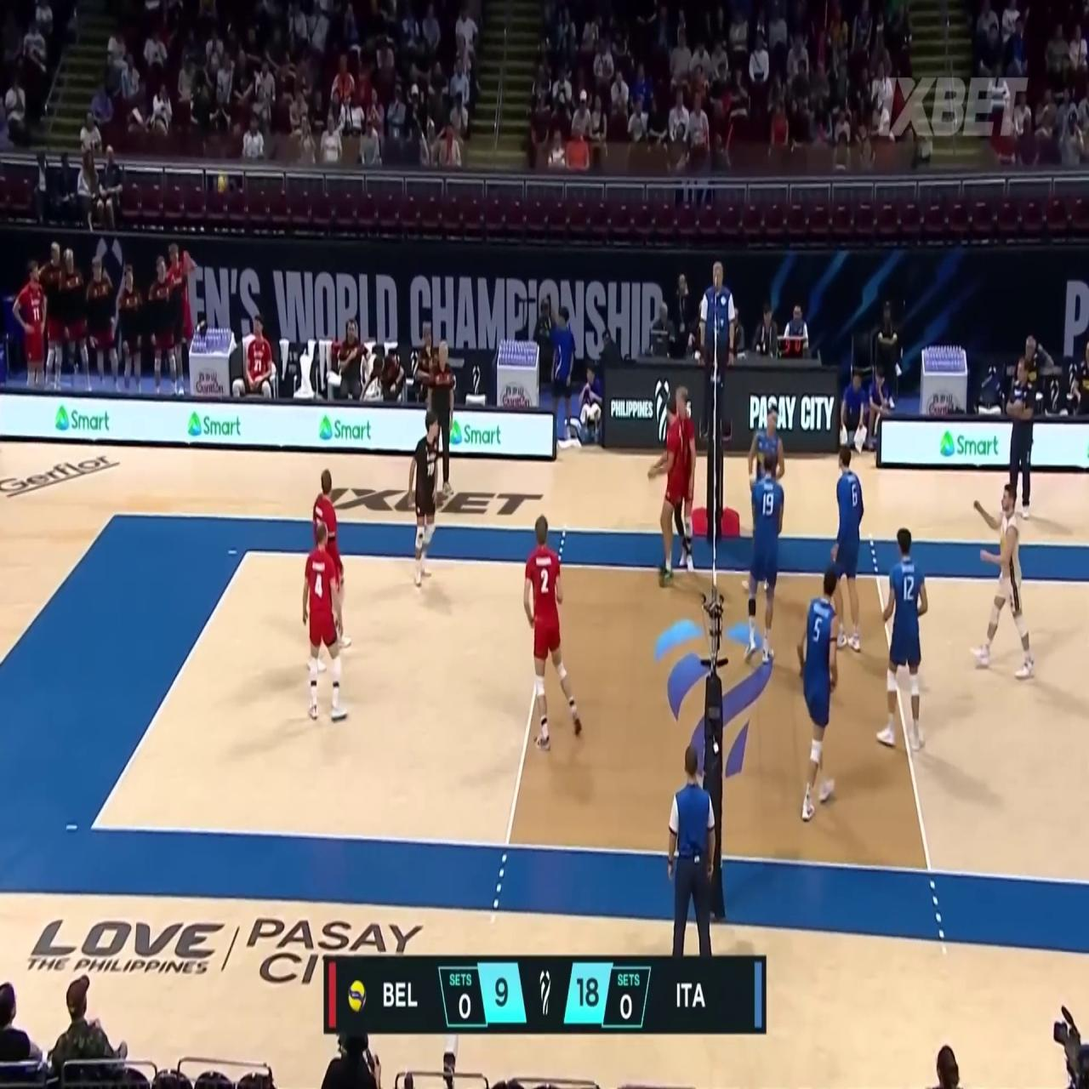ball: (217, 174, 229, 196)
